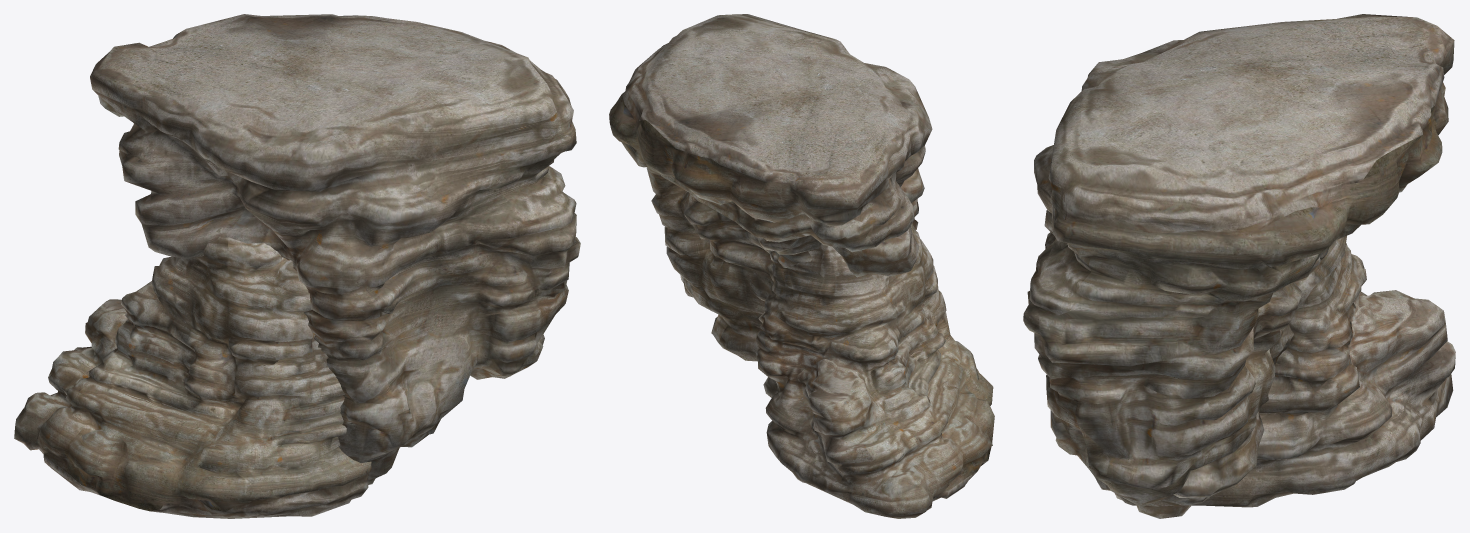
Rendered from Rock4.glb.
3 renders of one model, left to right at view 1: azimuth 30°, elevation 25°; view 2: azimuth 150°, elevation 25°; view 3: azimuth 270°, elevation 25°, orthographic. The views are drawn at different scales.
Visible parts, largest first — view 1: north_rock_LOD1_LOD1_LOD1_LOD002_Material #5544_0; view 2: north_rock_LOD1_LOD1_LOD1_LOD002_Material #5544_0; view 3: north_rock_LOD1_LOD1_LOD1_LOD002_Material #5544_0.
Boxes of the visible parts, <box> form: north_rock_LOD1_LOD1_LOD1_LOD002_Material #5544_0: <box>14,14,580,518</box>; north_rock_LOD1_LOD1_LOD1_LOD002_Material #5544_0: <box>609,14,994,518</box>; north_rock_LOD1_LOD1_LOD1_LOD002_Material #5544_0: <box>1023,14,1455,518</box>.
Size of the model in its own units: 2.85 by 2.48 by 2.2.
Materials: 1 (1 with a texture image).
